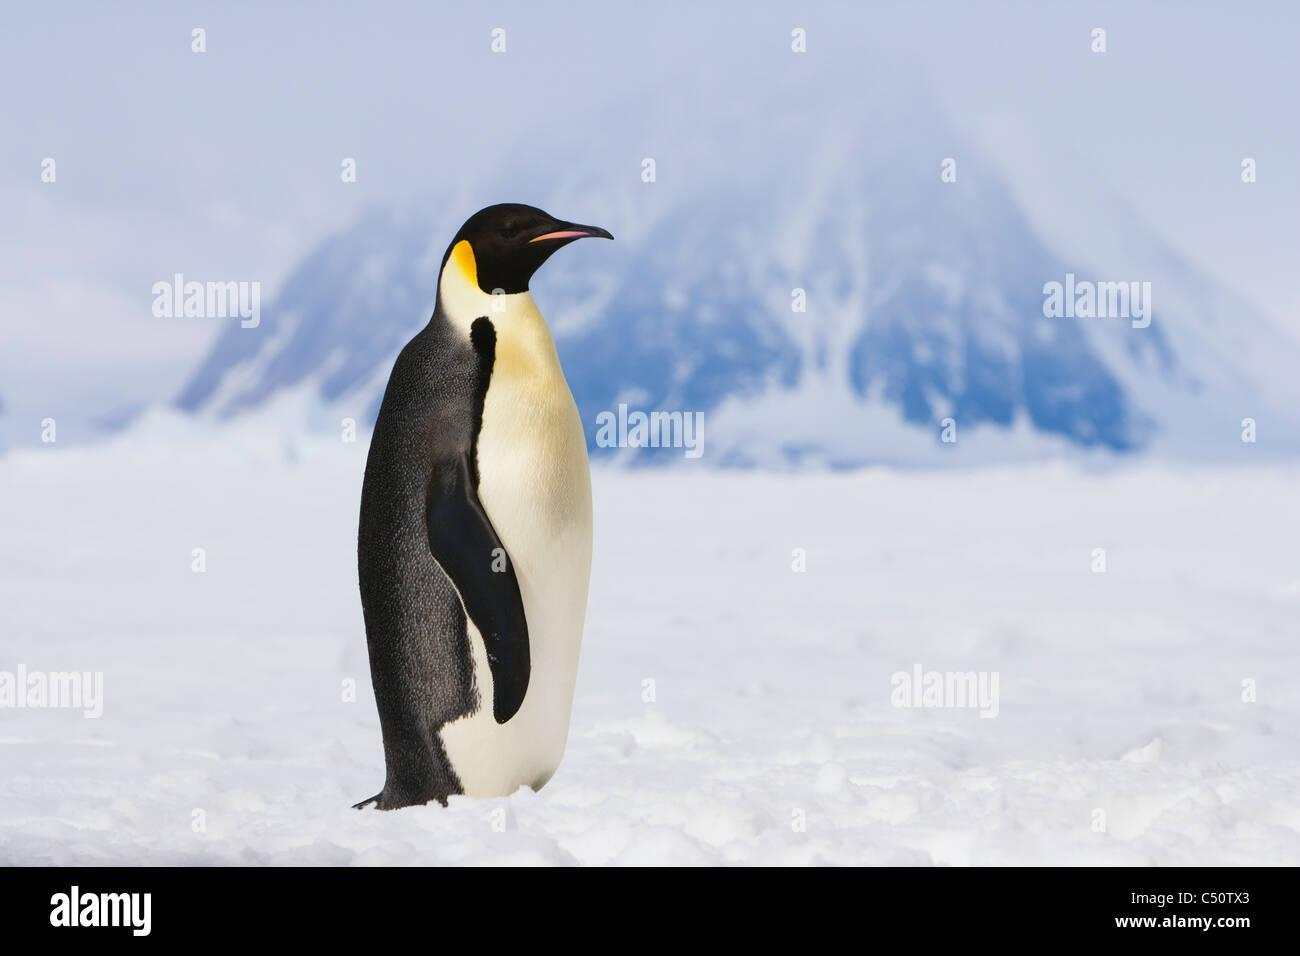emporer: (296, 153, 659, 826)
